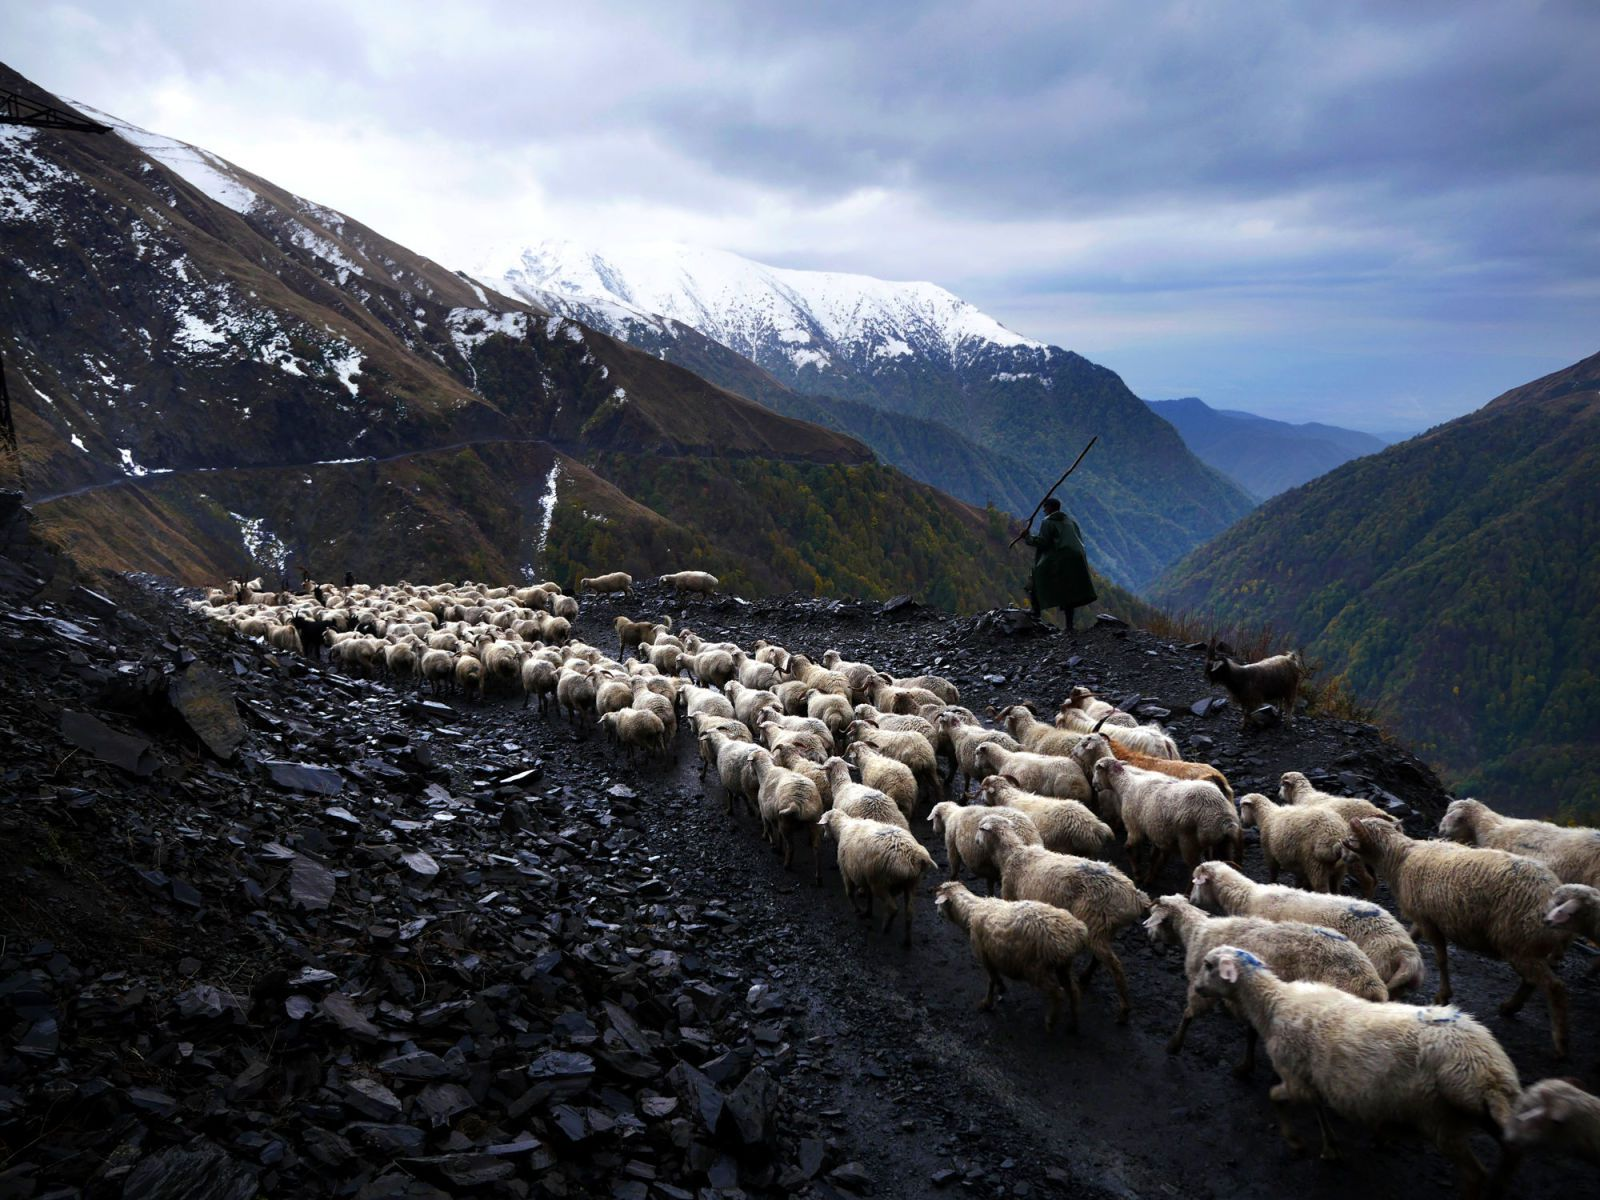sheep: (1196, 943, 1519, 1191), (1340, 807, 1575, 1034), (1144, 891, 1388, 1093), (1188, 858, 1429, 1051), (975, 809, 1146, 1003), (1443, 793, 1600, 992), (939, 880, 1099, 1045), (1075, 731, 1235, 885), (1091, 756, 1233, 897), (980, 771, 1111, 914), (973, 736, 1100, 863), (820, 807, 934, 942), (929, 800, 1042, 923), (1060, 696, 1170, 795), (819, 754, 910, 863), (997, 703, 1104, 795), (748, 751, 824, 862), (700, 725, 775, 822), (864, 673, 947, 754), (937, 713, 1017, 798), (1212, 648, 1308, 717), (850, 727, 934, 800), (771, 736, 833, 834), (848, 740, 913, 824), (600, 705, 666, 769), (689, 708, 751, 778), (726, 678, 780, 747), (800, 684, 850, 754), (786, 653, 847, 708), (590, 668, 636, 734), (673, 650, 733, 698), (821, 649, 873, 705), (472, 632, 522, 689), (515, 649, 559, 712), (659, 570, 722, 613), (627, 676, 673, 734), (551, 669, 597, 724), (733, 647, 779, 698), (568, 637, 605, 700), (637, 642, 689, 686), (625, 658, 665, 713), (614, 616, 659, 666), (532, 642, 568, 702), (330, 637, 375, 682), (291, 614, 338, 655), (581, 572, 636, 606), (417, 644, 452, 696), (653, 624, 685, 674), (454, 649, 485, 700), (480, 609, 519, 648), (378, 642, 414, 683), (425, 632, 462, 671), (265, 621, 306, 657), (535, 609, 571, 650), (386, 616, 428, 650), (324, 629, 368, 662), (506, 584, 548, 616), (241, 585, 278, 616), (546, 590, 577, 625), (421, 590, 454, 619), (242, 577, 266, 599)
